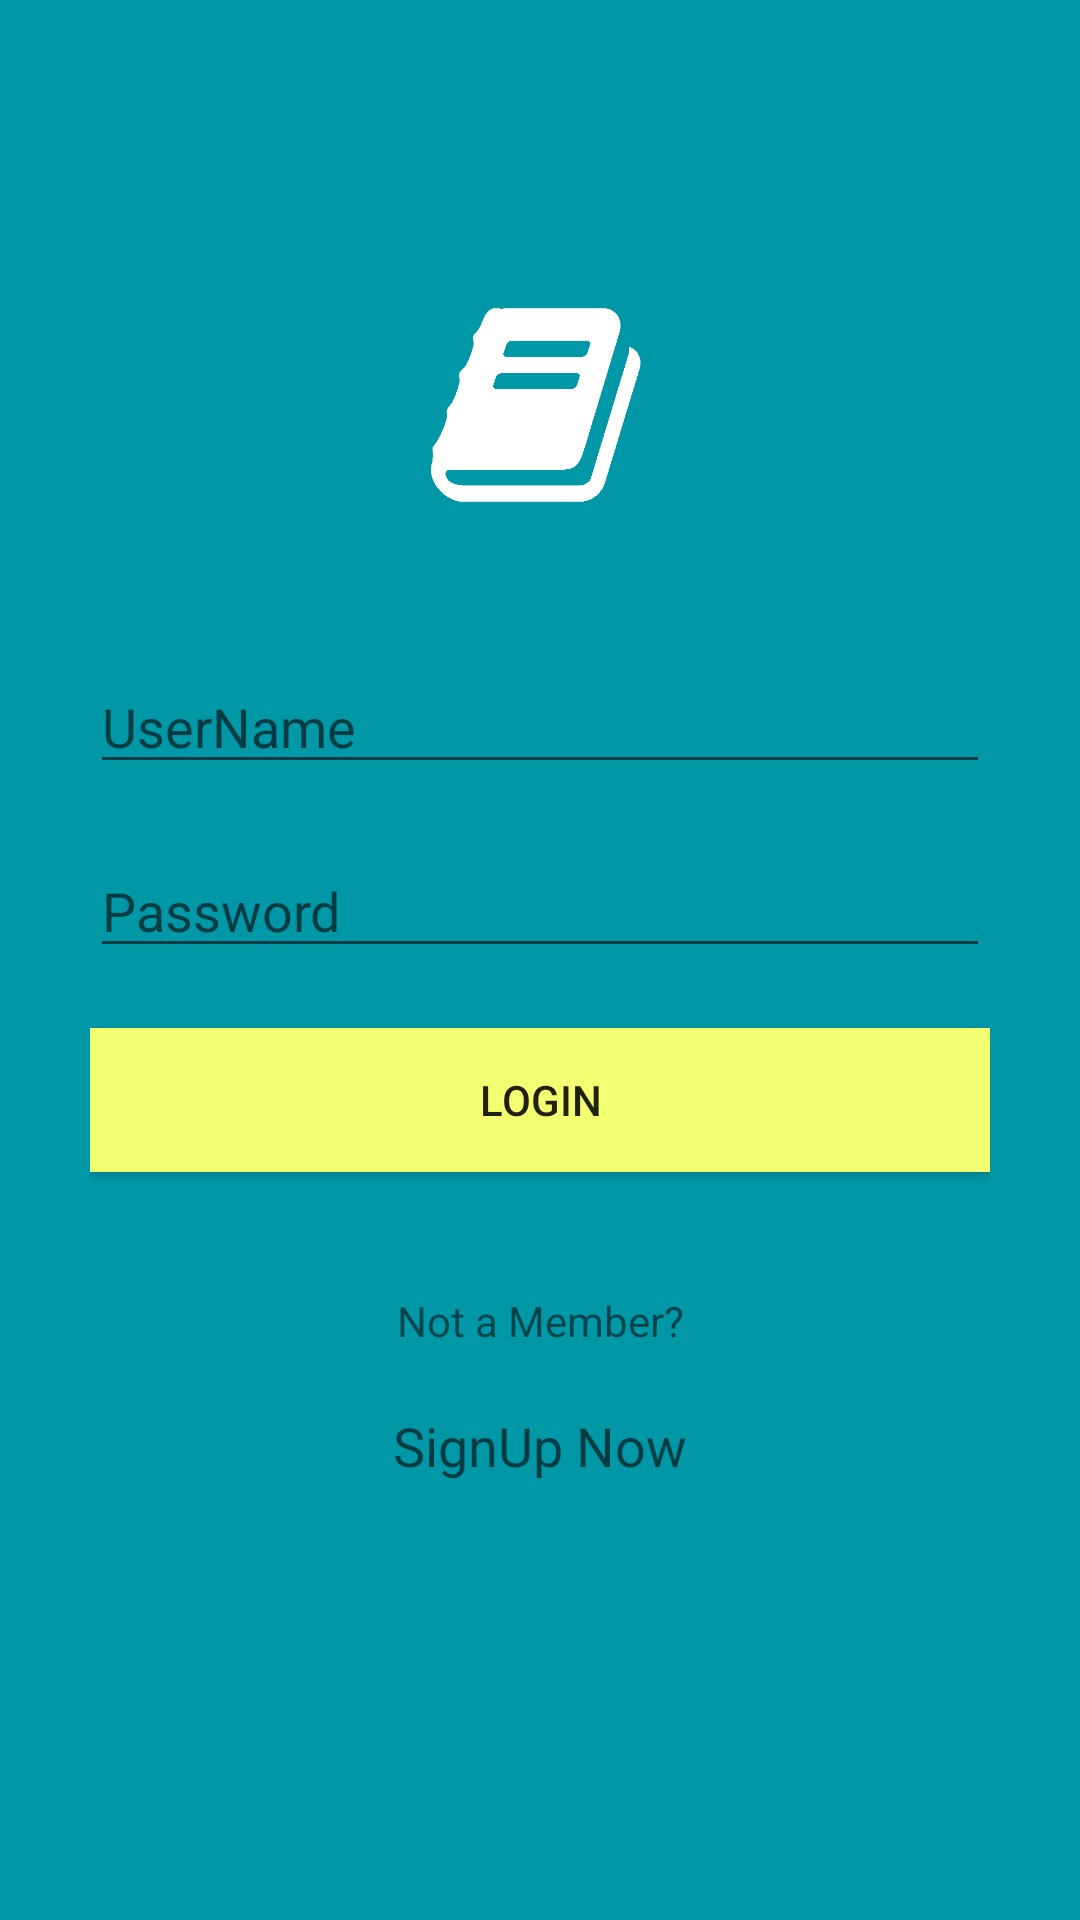

Icon bounding boxes for this 1080 × 1920 phone screenshot, format (x1, y1, x2, y2):
bookwhite: (431, 308, 641, 502)
